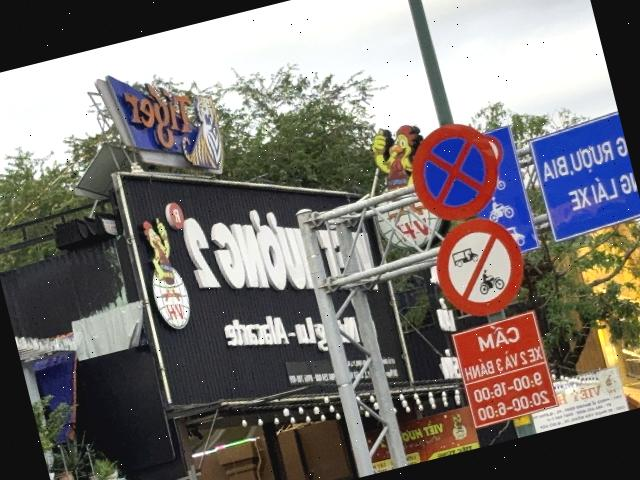cam-dung-va-do-xe: (399, 112, 509, 231)
cam-xe-2-banh-3-banh: (425, 208, 534, 324)
